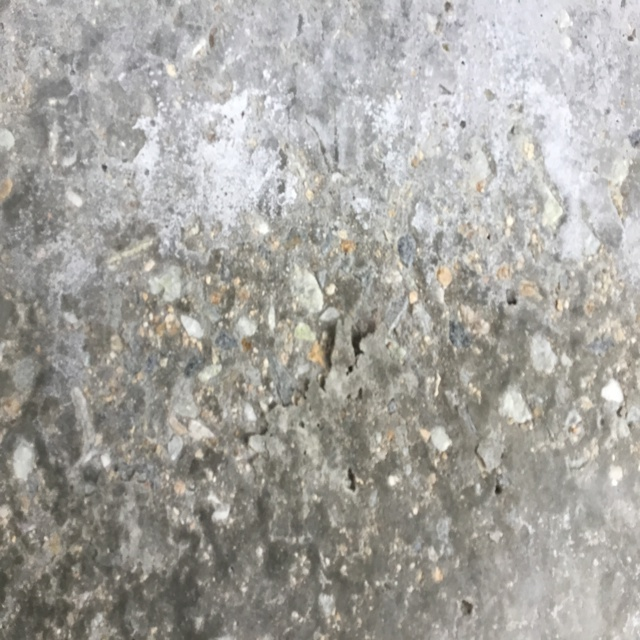spall: (102, 292, 430, 417)
